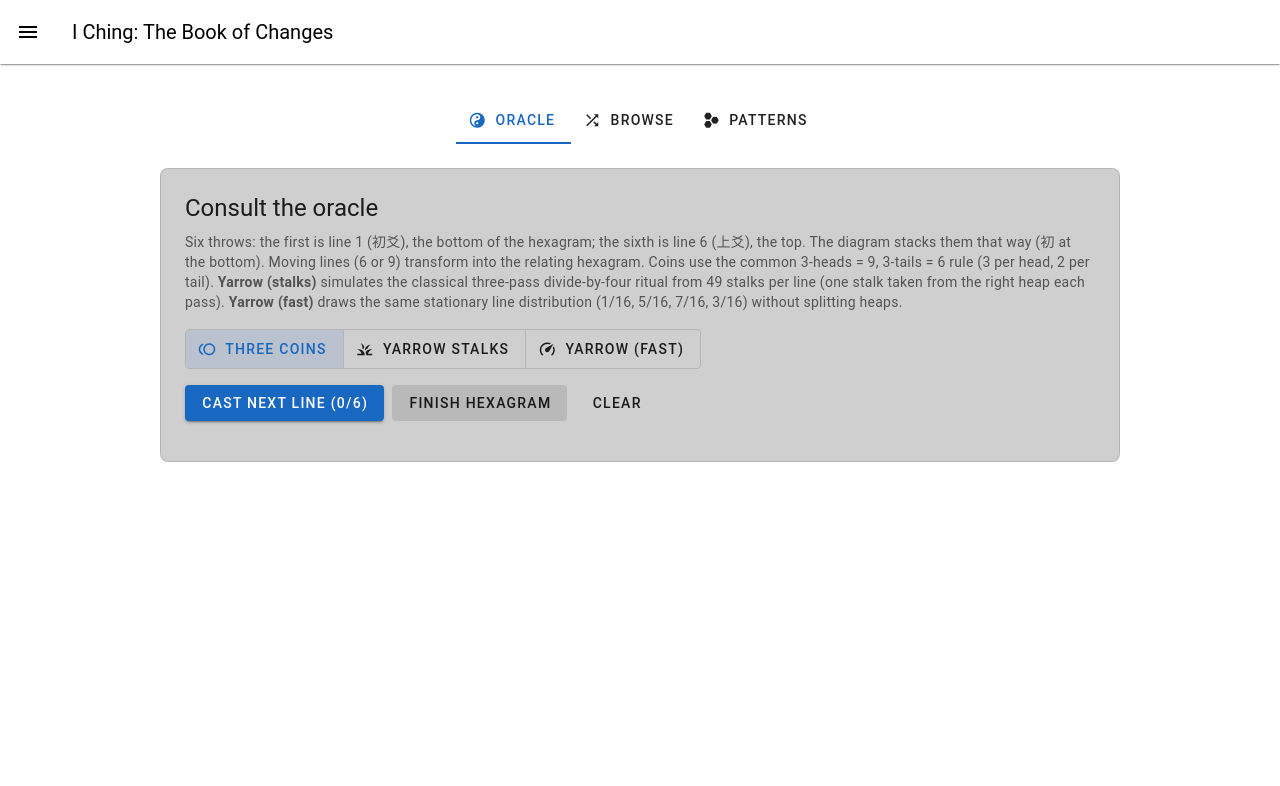
App.vue › opens Patterns lab with binary lattice
Click the tab "Patterns": (757, 120) [690,96,824,144]
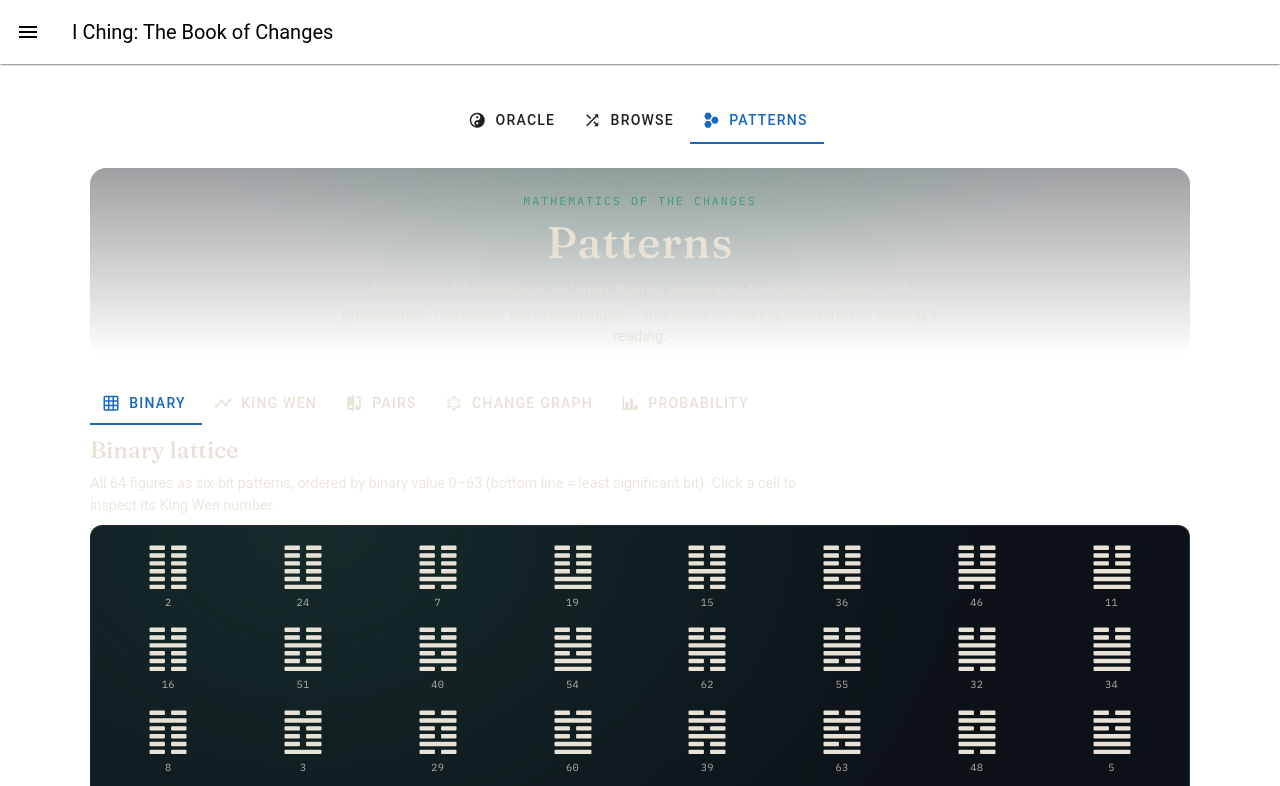
Result: the text "Mathematics of the Changes" is shown at [523,193,757,208]
Result: the text "Binary lattice" is shown at [90,435,238,464]
